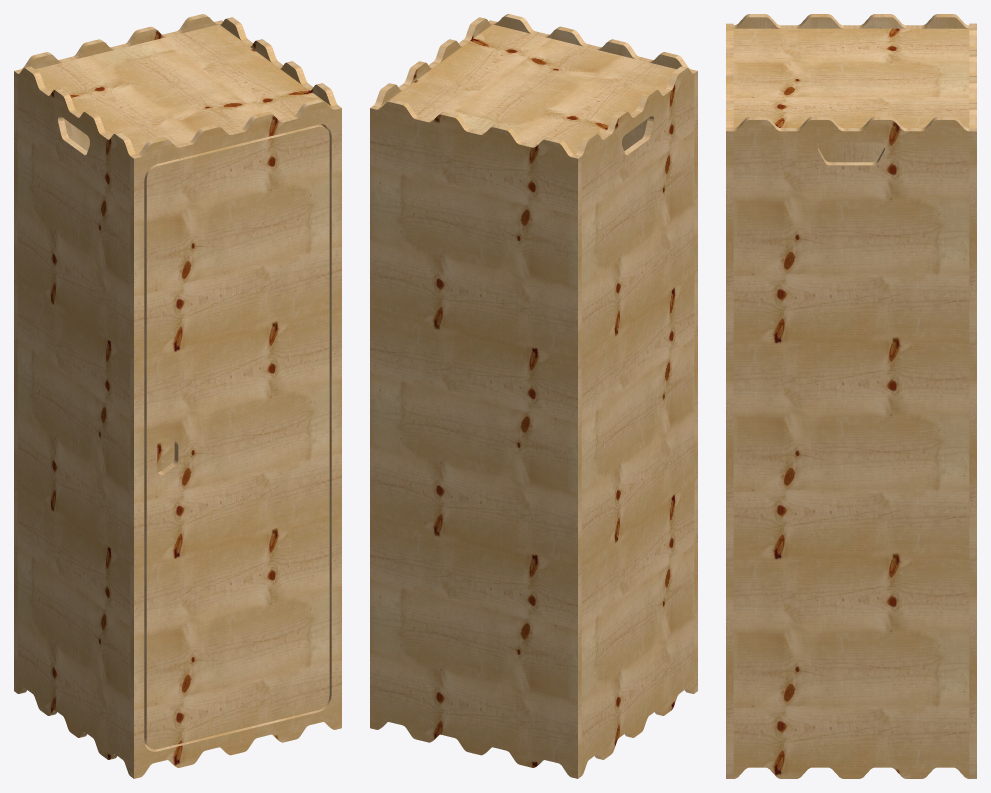
File: three_one_center_scale.glb
The picture shows the model from 3 angles, left to right: view 1: azimuth 30°, elevation 25°; view 2: azimuth 150°, elevation 25°; view 3: azimuth 270°, elevation 25°; orthographic projection. The views are drawn at different scales.
Parts seen in each view (by area): view 1: three_one.center.scale; view 2: three_one.center.scale; view 3: three_one.center.scale.
Boxes of the visible parts, box(x1,y1,x2,y2) form: three_one.center.scale: box(14, 14, 341, 778); three_one.center.scale: box(370, 14, 697, 778); three_one.center.scale: box(726, 14, 976, 778).
Bounding box in the file's own units: 0.5 × 1.45 × 0.5.
Materials: 1 (1 with a texture image).
